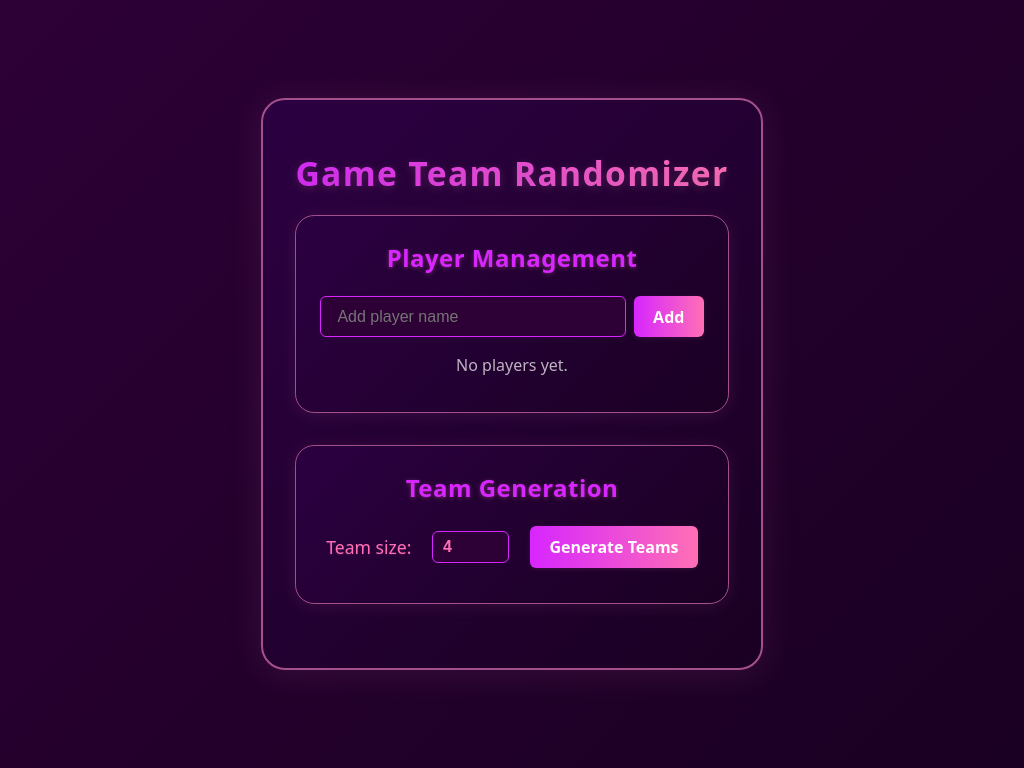
Test: Game Team Randomizer - Unit Tests › Player Management Logic › can add a player via button
In the field with placeholder "Add player name": (473, 317) [320,296,626,337], type "Alice"
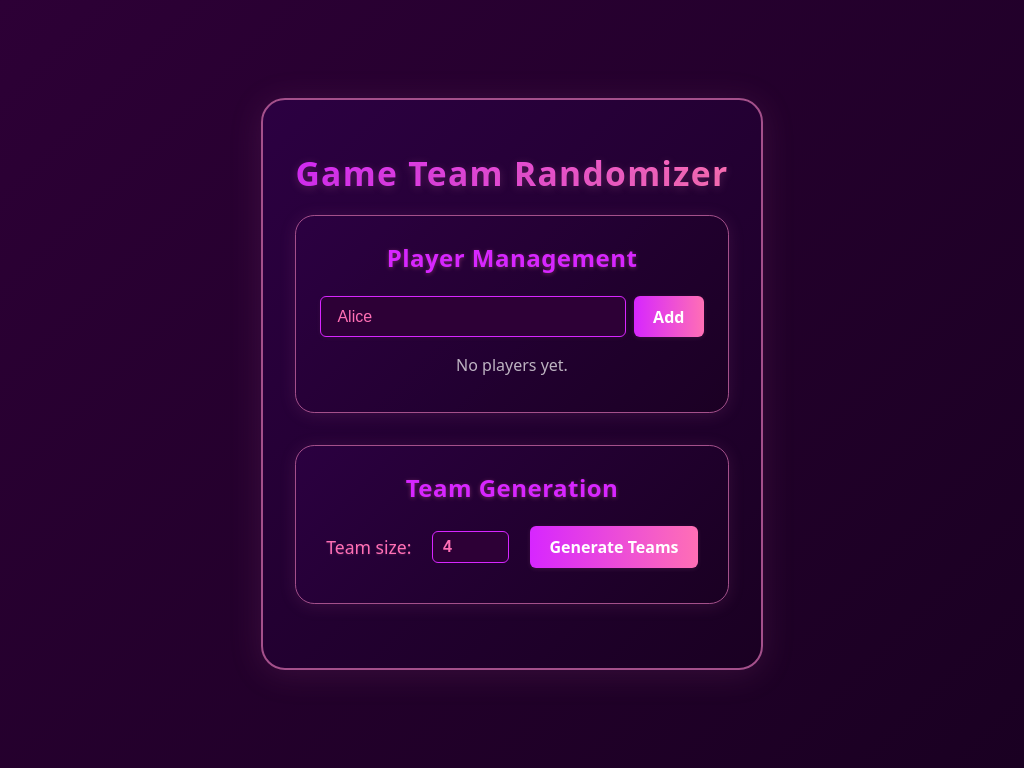
Click the button "Add": (669, 317) [634,296,704,337]
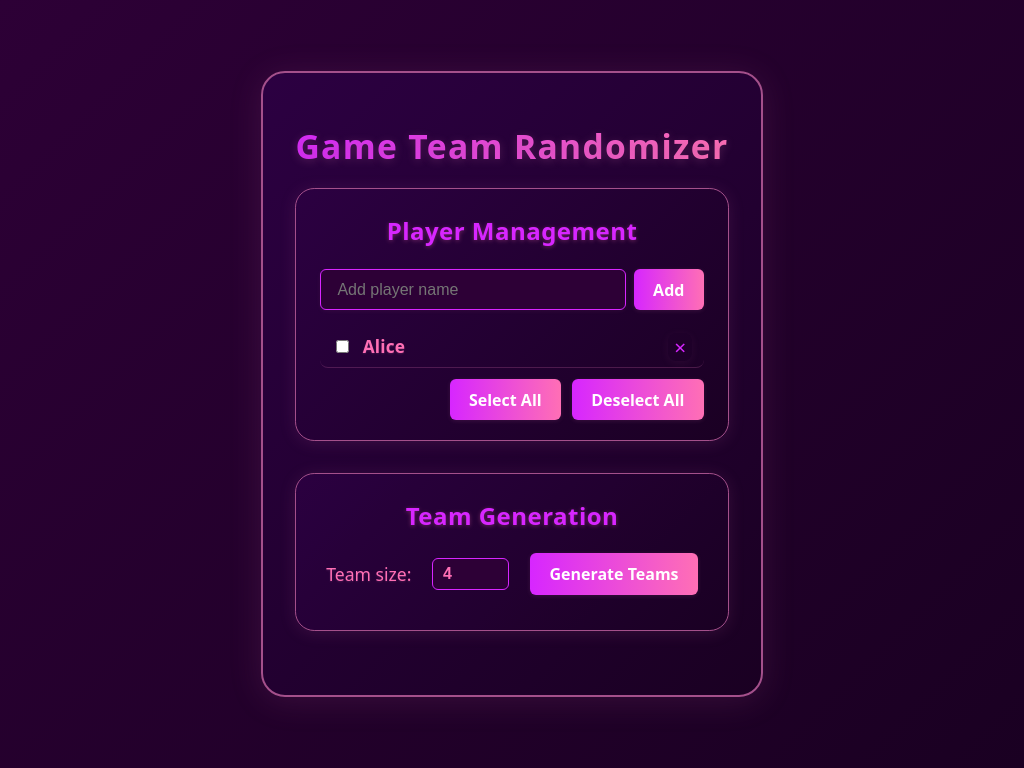
expect the text "Alice" is shown: met, box [363,334,405,360]
